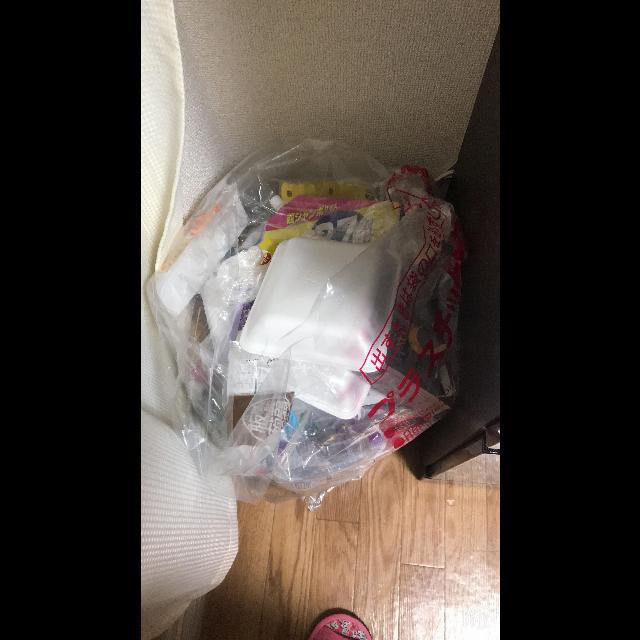styrofoam: (238, 237, 400, 373), (288, 359, 371, 420)
